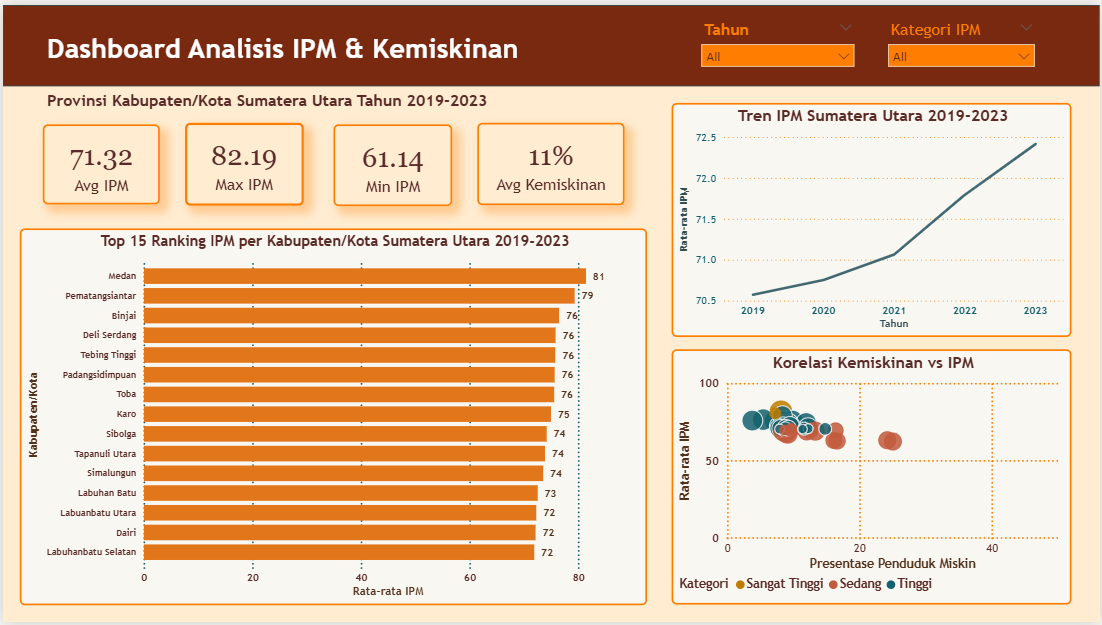

This screenshot's page, from the dashboard's own definition file:
{"tool":"powerbi","page":{"name":"Overview","canvas":[1280,720],"ordinal":0},"visuals":[{"type":"shape","box":[0,0,1280,95],"z":0},{"type":"card","fields":{"Values":["Indeks Pembangunan Manusia.Max IPM"]},"box":[213.3,138.3,138.3,96.7],"z":1000},{"type":"card","fields":{"Values":["Indeks Pembangunan Manusia.Min IPM"]},"box":[385.7,138.6,138.6,95.7],"z":2000},{"type":"card","fields":{"Values":["Indeks Pembangunan Manusia.Rata-rata IPM"]},"box":[46.7,140,136.7,93.3],"z":3000},{"type":"card","fields":{"Values":["Indeks Pembangunan Manusia.Avg Kemiskinan"]},"box":[554,138,172,96],"z":4000},{"type":"barChart","title":"Top 15 Ranking IPM per Kabupaten/Kota Sumatera Utara 2019-2023","fields":{"Category":["Indeks Pembangunan Manusia.Kabupaten Kota"],"Y":["Avg(Indeks Pembangunan Manusia.IPM)"]},"box":[20,260,732,440],"z":5000},{"type":"lineChart","title":"Tren IPM Sumatera Utara 2019-2023","fields":{"Category":["Indeks Pembangunan Manusia.Tahun"],"Y":["Indeks Pembangunan Manusia.Rata-rata IPM"]},"box":[780,115,466.7,273.3],"z":6000},{"type":"scatterChart","title":"Korelasi Kemiskinan vs IPM","fields":{"X":["Avg(Indeks Pembangunan Manusia.Presentasi_penduduk_miskin)"],"Y":["Avg(Indeks Pembangunan Manusia.IPM)"],"Size":["Sum(Indeks Pembangunan Manusia.Rata_rata_lama_sekolah)"],"Series":["Indeks Pembangunan Manusia.Kategori_IPM"],"Category":["Indeks Pembangunan Manusia.Kabupaten Kota"]},"box":[780,401.7,466.7,298.3],"z":7000},{"type":"slicer","fields":{"Values":["Indeks Pembangunan Manusia.Tahun"]},"box":[805,11.7,198.3,81.7],"z":8000},{"type":"slicer","fields":{"Values":["Indeks Pembangunan Manusia.Kategori_IPM"]},"box":[1023.3,13.3,191,81.7],"z":9000},{"type":"textbox","box":[46,26,610,68],"z":10000},{"type":"textbox","box":[46,94,630,42],"z":11000}]}

Visuals, with their boxes in screenshot pixels (x1, y1, x2, y2), scaled from the page's 1280x720 canvas onto the 1102x625 screenshot:
shape: select_region(0, 0, 1101, 82)
card - Indeks Pembangunan Manusia.Max IPM: select_region(184, 120, 303, 204)
card - Indeks Pembangunan Manusia.Min IPM: select_region(332, 120, 451, 203)
card - Indeks Pembangunan Manusia.Rata-rata IPM: select_region(40, 122, 158, 203)
card - Indeks Pembangunan Manusia.Avg Kemiskinan: select_region(477, 120, 625, 203)
"Top 15 Ranking IPM per Kabupaten/Kota Sumatera Utara 2019-2023" barChart: select_region(17, 226, 647, 608)
"Tren IPM Sumatera Utara 2019-2023" lineChart: select_region(672, 100, 1073, 337)
"Korelasi Kemiskinan vs IPM" scatterChart: select_region(672, 349, 1073, 608)
slicer - Indeks Pembangunan Manusia.Tahun: select_region(693, 10, 864, 81)
slicer - Indeks Pembangunan Manusia.Kategori_IPM: select_region(881, 12, 1045, 82)
textbox: select_region(40, 23, 565, 82)
textbox: select_region(40, 82, 582, 118)
